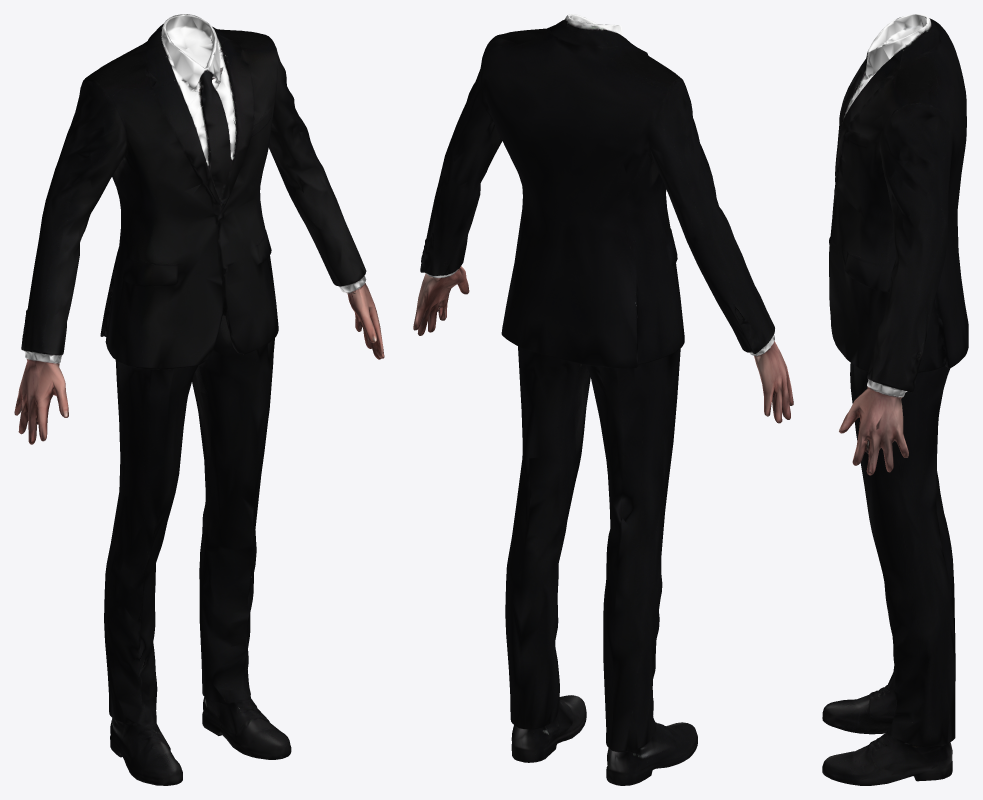
Rendered from Body.fbx.
3 renders of one model, left to right at view 1: azimuth 30°, elevation 25°; view 2: azimuth 150°, elevation 25°; view 3: azimuth 270°, elevation 25°, orthographic. The views are drawn at different scales.
Parts seen in each view (by area): view 1: mesh_node; view 2: mesh_node; view 3: mesh_node.
Boxes of the visible parts, bbox=[...] form: mesh_node: bbox=[14, 14, 384, 785]; mesh_node: bbox=[413, 14, 793, 785]; mesh_node: bbox=[822, 14, 968, 785].
Bounding box in the file's own units: 97.13 × 190 × 34.53.
Materials: 1 (1 with a texture image).
